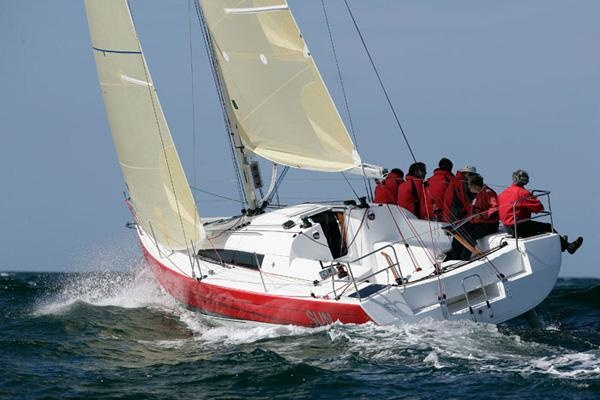fanchuan: (67, 1, 570, 334)
person: (504, 169, 589, 252), (454, 172, 499, 258), (438, 164, 479, 223), (424, 157, 455, 218), (400, 159, 427, 212), (375, 164, 402, 204)
